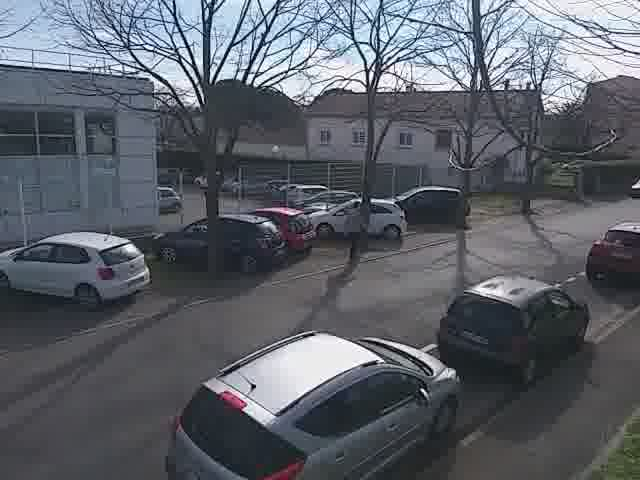persona: (340, 189, 370, 267)
